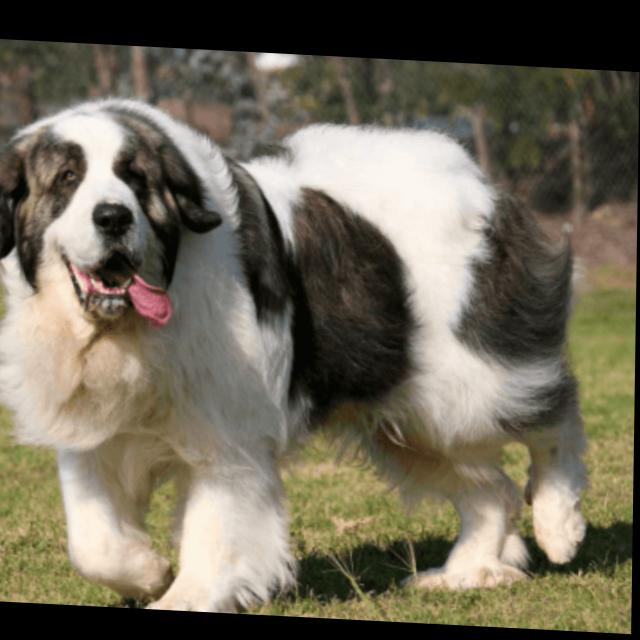other_dog_breed: (1, 91, 597, 626)
